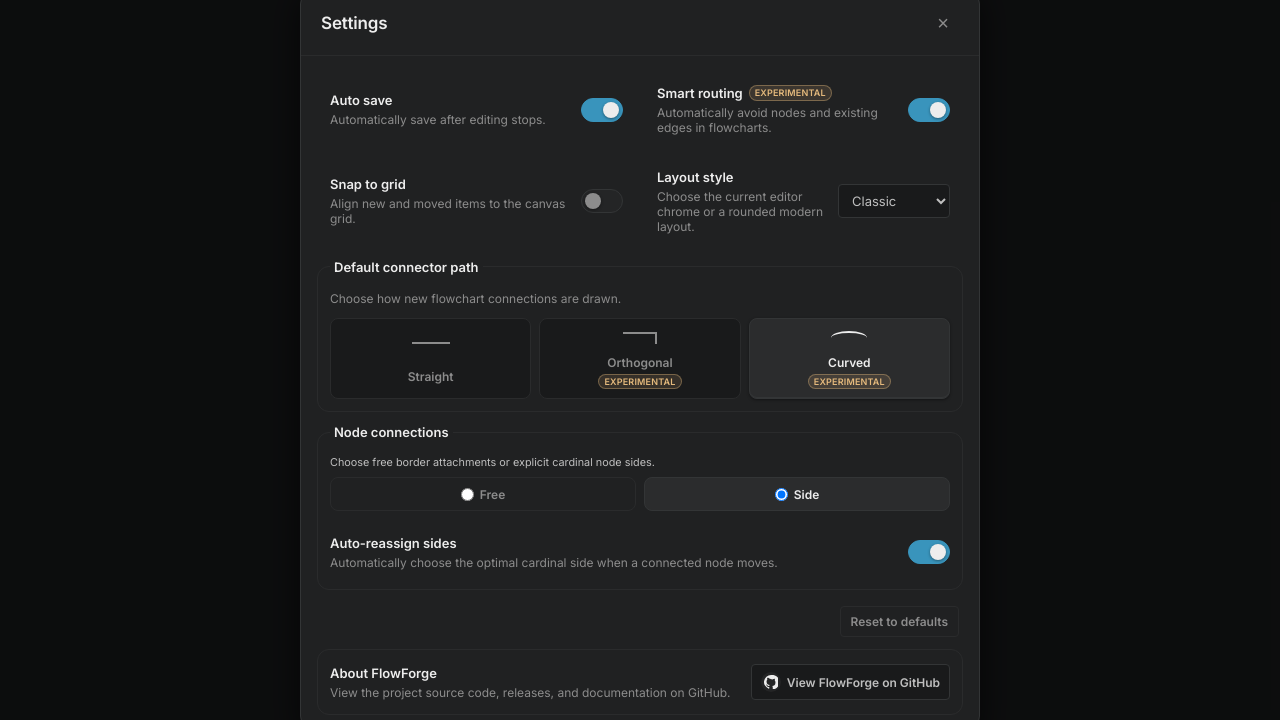
Test case: SettingsDialog › switches from Side to Free when the Free option is clicked
Expected: the radio button with aria-label "Free node connections" is not checked, [461,488,474,501]
Click the text "Free" at (493, 494), box [480,487,505,502]
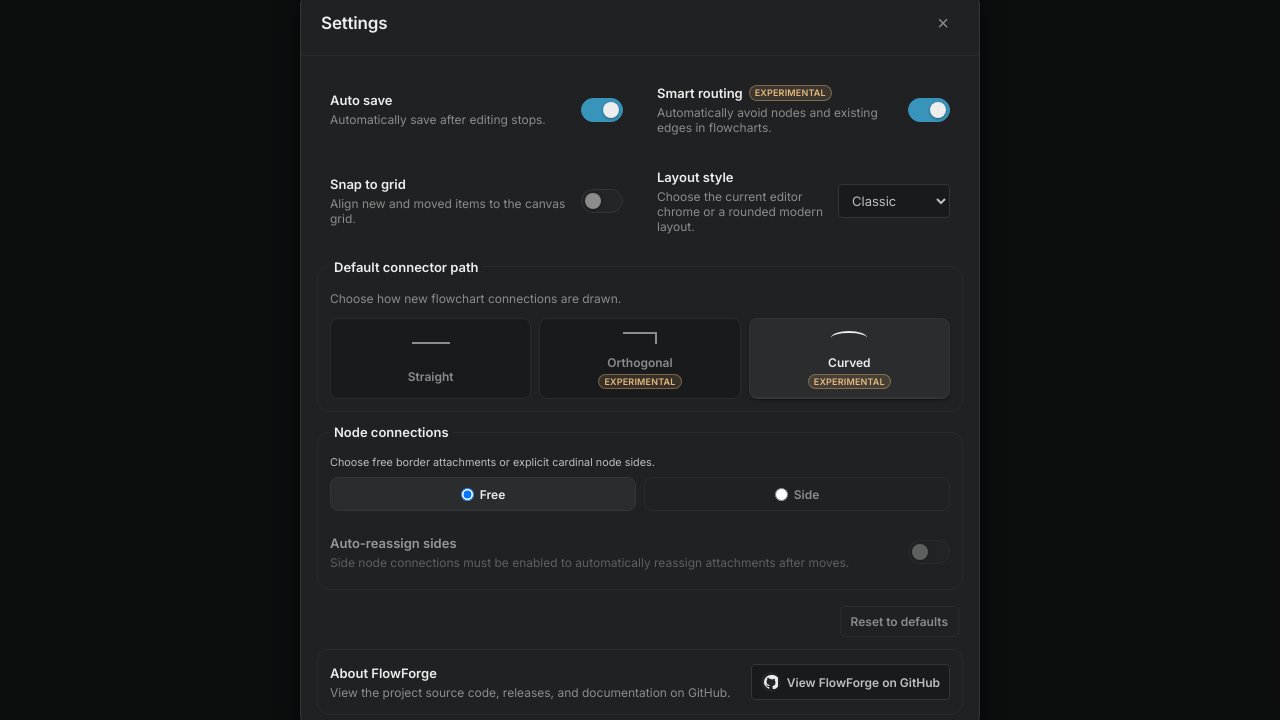
Expected: the radio button with aria-label "Free node connections" is checked, [461,488,474,501]
Expected: the radio button with aria-label "Side node connections" is not checked, [775,488,788,501]
